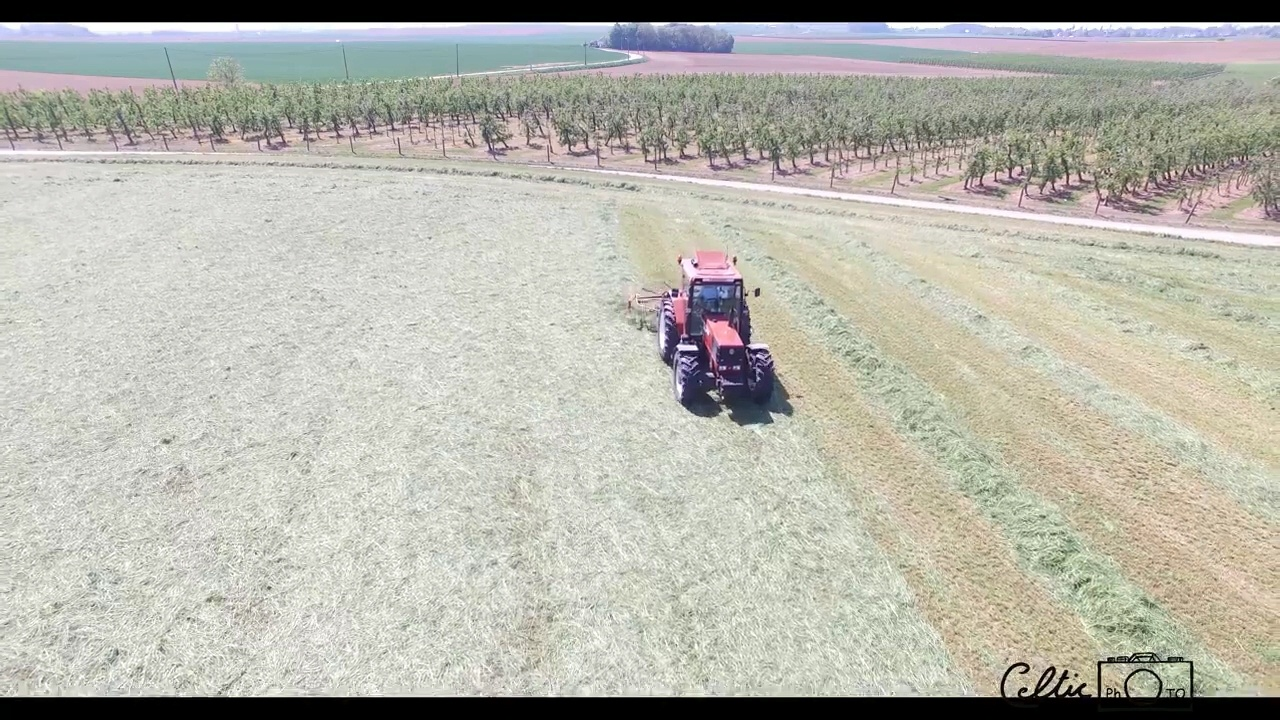traktor: (653, 252, 775, 413)
